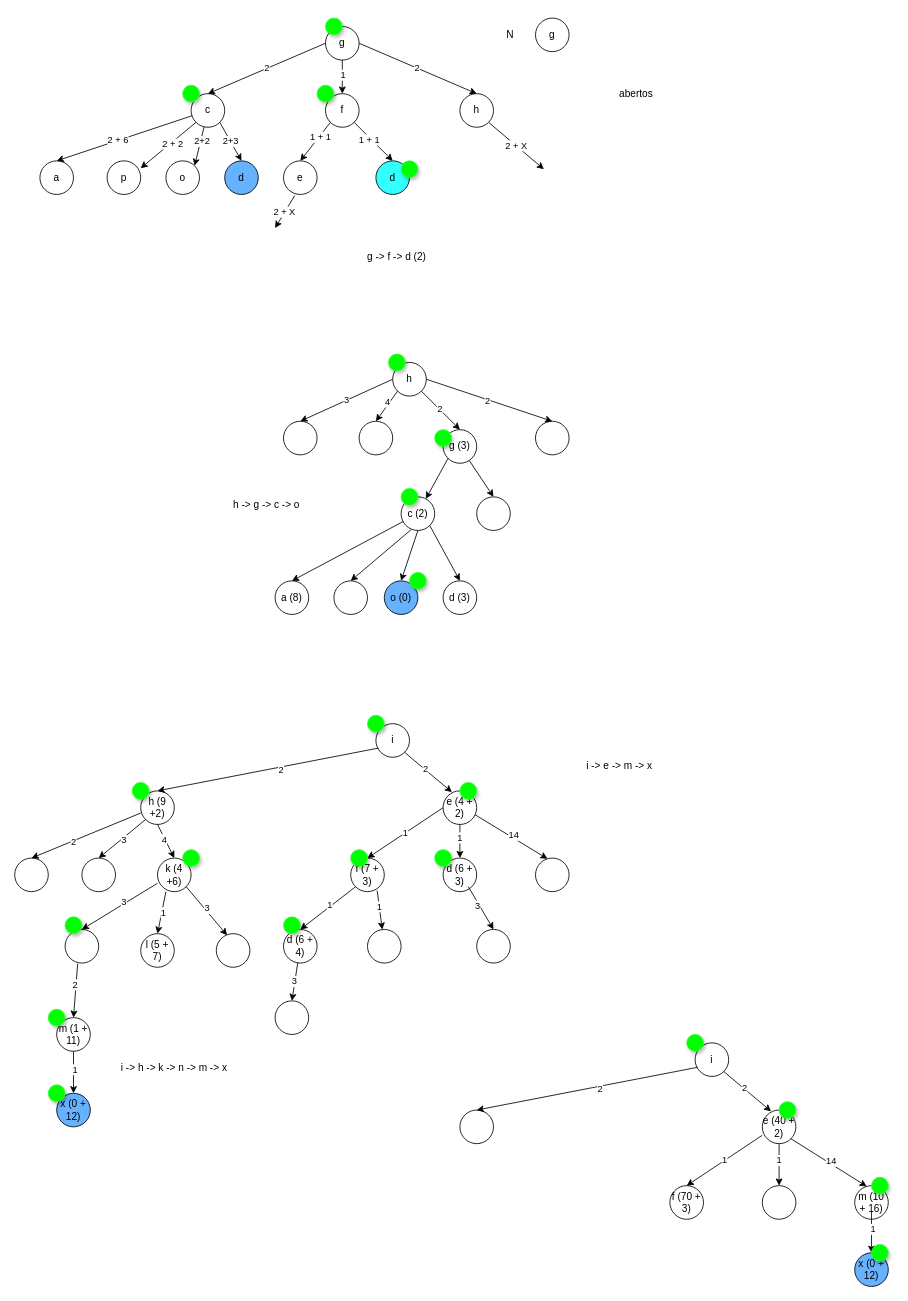
Some shapes in this 908 by 1301 pixel diagram are drawn without their labels. The centre of each missing label's shape, as x and y in pixels:
"b (10)" goes at point (300, 437).
"b (14 +5)" goes at point (98, 874).
"b (14 +9)" goes at point (232, 950).
"c (14 + 6)" goes at point (493, 946).
"c (14 + 7)" goes at point (291, 1017).
"d (60 + 3)" goes at point (778, 1202).
"f (3)" goes at point (493, 513).
"g (8 + 4)" goes at point (384, 946).
"g (8 +4)" goes at point (31, 874).
"h (90 +2)" goes at point (476, 1126).
"i (4)" goes at point (552, 437).
"k (10)" goes at point (375, 437).
"m (1 + 16)" goes at point (552, 874).
"n (2 + 9)" goes at point (81, 946).
"p (3)" goes at point (350, 597).
